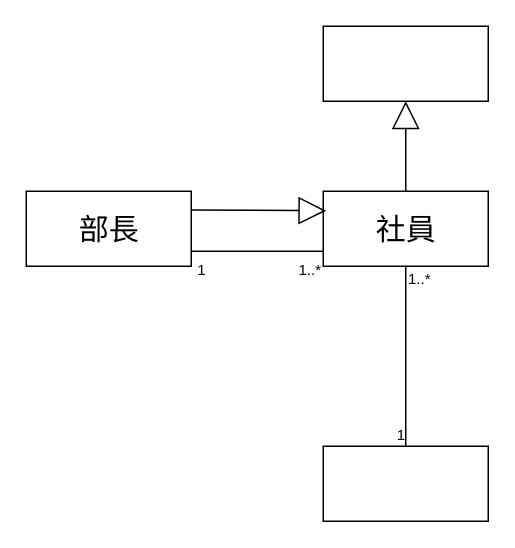
Image size: 515x548. Some labels were removed from this diagram. Each missing label, with the box of its shape:
会社: (322, 445, 488, 521)
個人: (322, 25, 488, 101)
